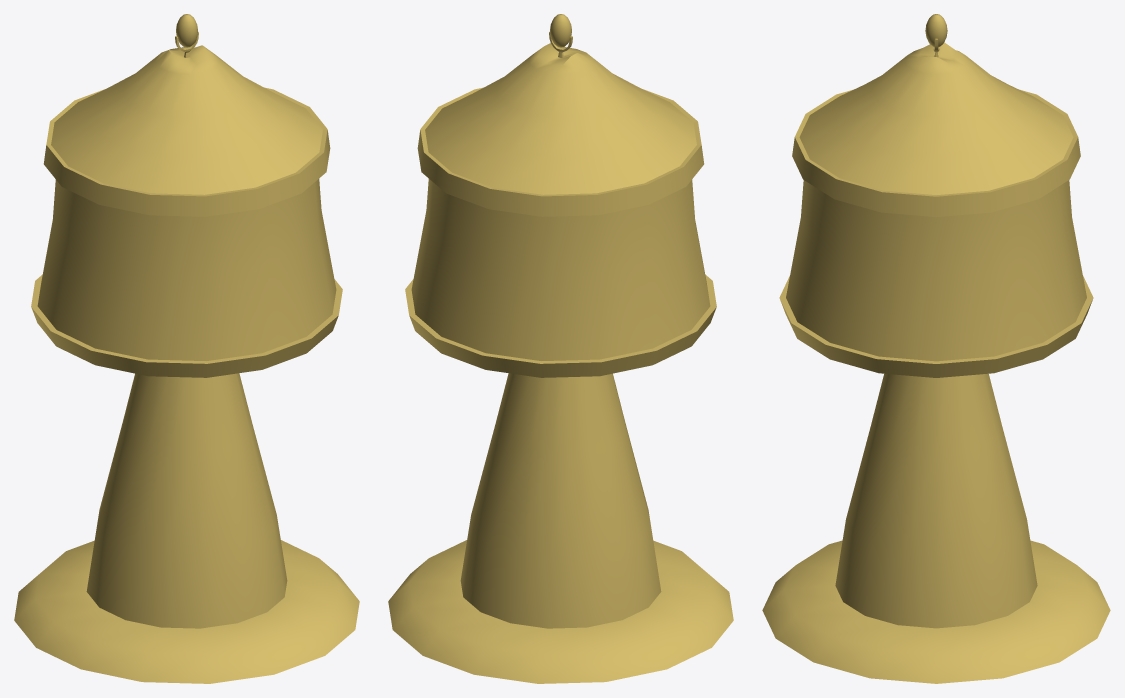
File: GR Lamp 4.fbx
3 views of the same model, side by side, from view 1: azimuth 30°, elevation 25°; view 2: azimuth 150°, elevation 25°; view 3: azimuth 270°, elevation 25° (orthographic).
Visible parts, largest first — view 1: Body, Screen, Light; view 2: Body, Screen, Light; view 3: Body, Screen, Light.
Part boxes in pixels (box(x1,y1,x2,y2)): Body: box(14, 45, 359, 683); Screen: box(37, 179, 336, 360); Light: box(176, 14, 197, 47); Body: box(388, 43, 733, 683); Screen: box(411, 179, 710, 360); Light: box(550, 14, 571, 47); Body: box(762, 42, 1110, 683); Screen: box(786, 180, 1086, 361); Light: box(925, 14, 947, 47).
Size of the model in its own units: 48.59 by 91.73 by 48.59.
